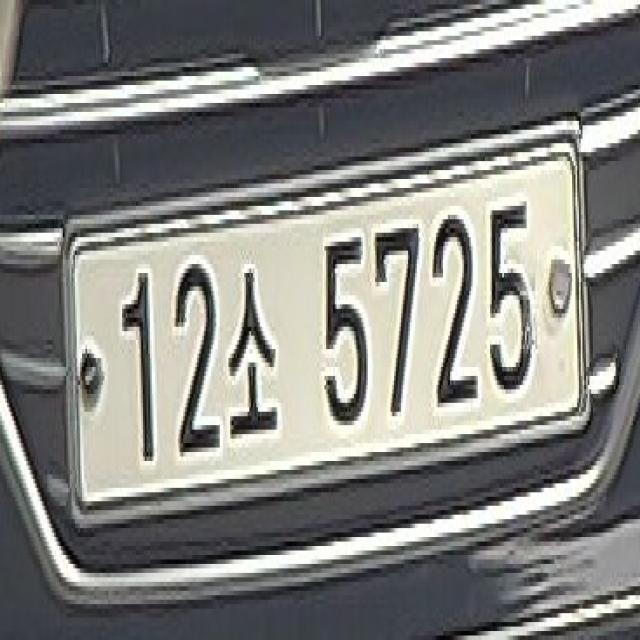1: (119, 252, 156, 480)
2: (172, 252, 225, 468), (432, 205, 482, 412)
5: (488, 186, 536, 404), (320, 221, 370, 429)
7: (375, 210, 423, 424)
license_plate: (59, 118, 592, 537)
so: (228, 258, 286, 463)
